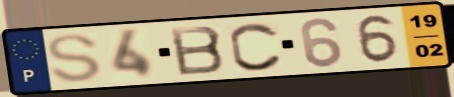4: (107, 25, 158, 83)
6: (297, 15, 345, 69), (354, 13, 402, 64)
B: (166, 24, 228, 78)
C: (227, 20, 286, 73)
S: (44, 32, 104, 85)
